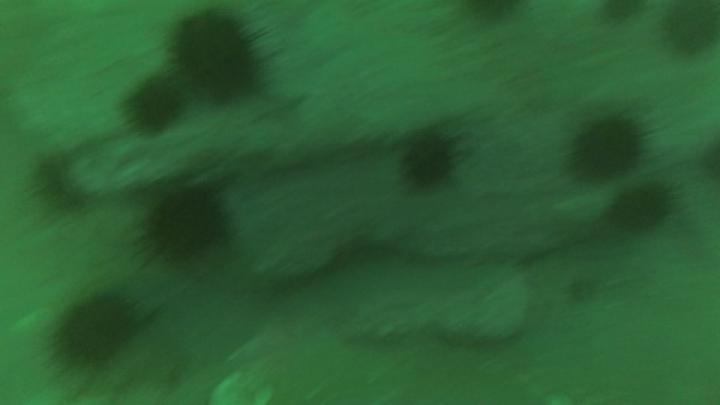echinus: (164, 6, 265, 109), (140, 185, 235, 277), (47, 289, 143, 379), (560, 107, 644, 192), (605, 174, 675, 244), (128, 71, 191, 143), (392, 124, 457, 192), (661, 4, 720, 59)
